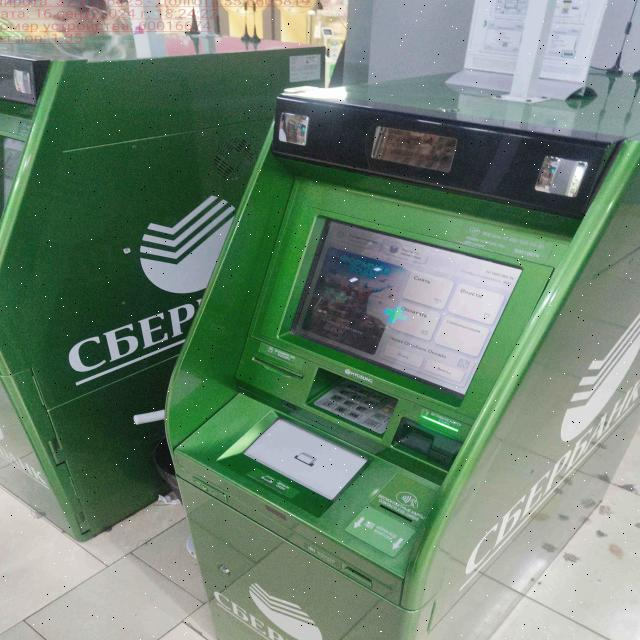bank: (195, 63, 640, 640), (0, 34, 322, 536)
